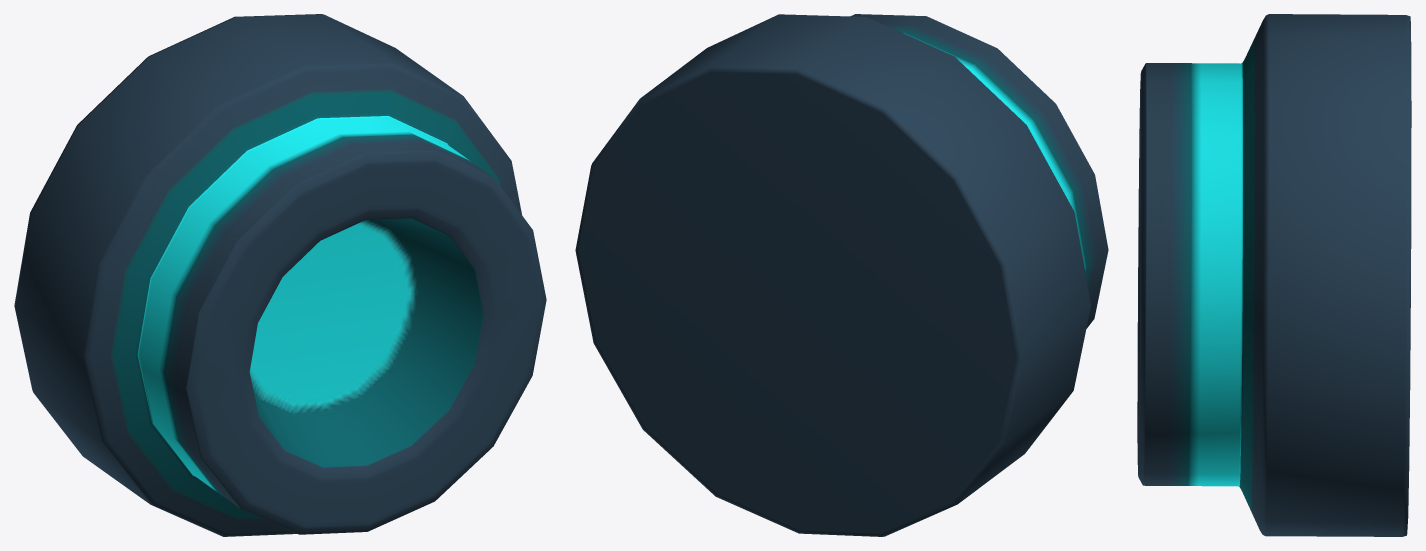
File: Assist_paichihuan01.FBX
3 views of the same model, side by side, from view 1: azimuth 30°, elevation 25°; view 2: azimuth 150°, elevation 25°; view 3: azimuth 270°, elevation 25° (orthographic).
Visible parts, largest first — view 1: Assist_paichihuan; view 2: Assist_paichihuan; view 3: Assist_paichihuan.
Boxes of the visible parts, x1,y1,x2,y2 form: Assist_paichihuan: (14,14,546,536); Assist_paichihuan: (575,14,1108,536); Assist_paichihuan: (1137,14,1411,536).
Bounding box in the file's own units: 0.7833 × 0.7843 × 0.4103.
Materials: 1 (1 with a texture image).
